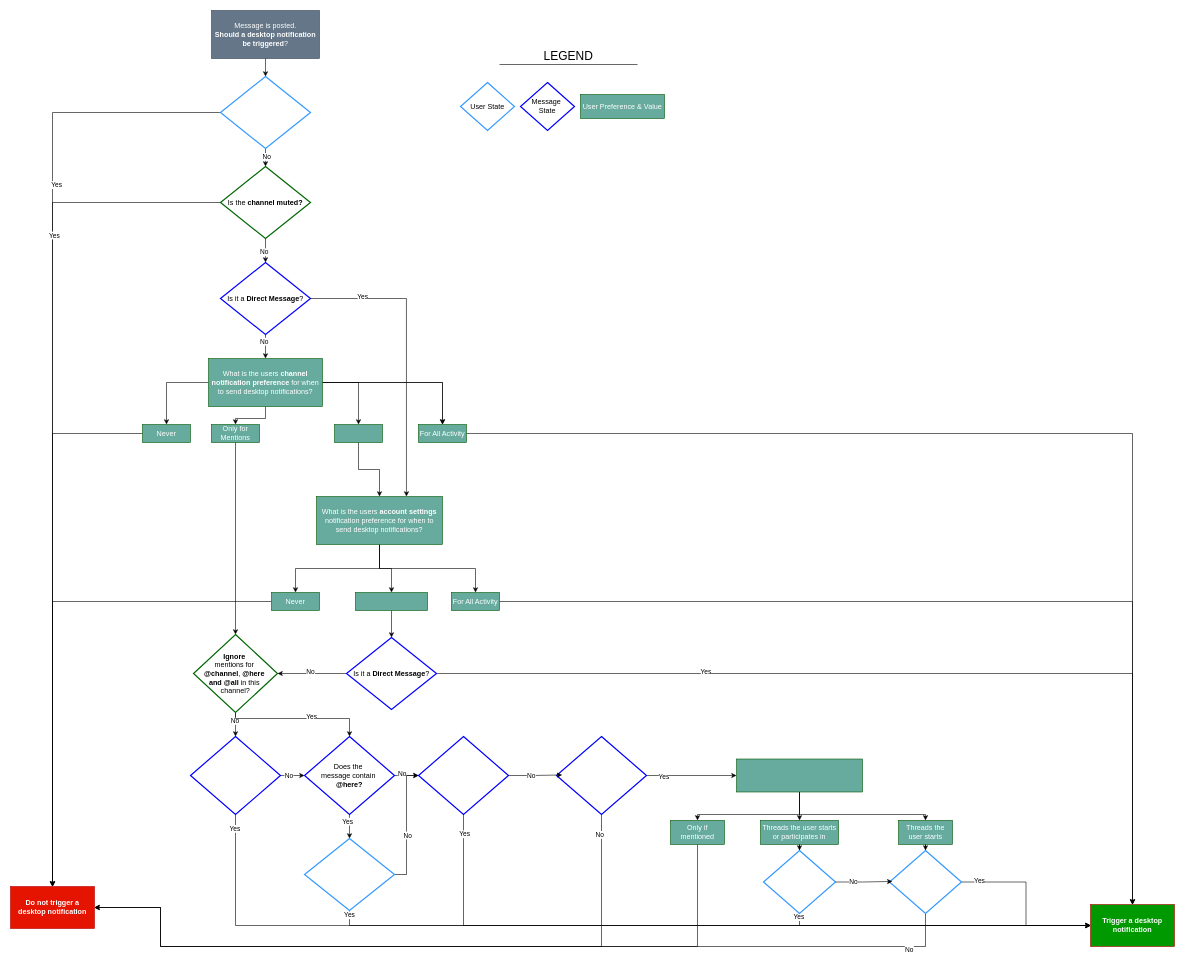
This 1185x964 diagram has some shape labels left out. Each missing label, with the centre of its shape:
Did the user participate in the thread ?: point 799,882
Did the user start the thread ?: point 925,882
Does the message contain @channel or @all?: point 235,775
Does the message contain other words that trigger mentions ?: point 463,775
Global Default: point 358,433
Is the message in a thread ?: point 601,775
Is the user in Do Not Disturb?: point 265,112
Is the user status online or away?: point 349,874
Only for Mentions and Direct Messages: point 391,601
What is the users notification preference for Reply Notifications ?: point 799,775
